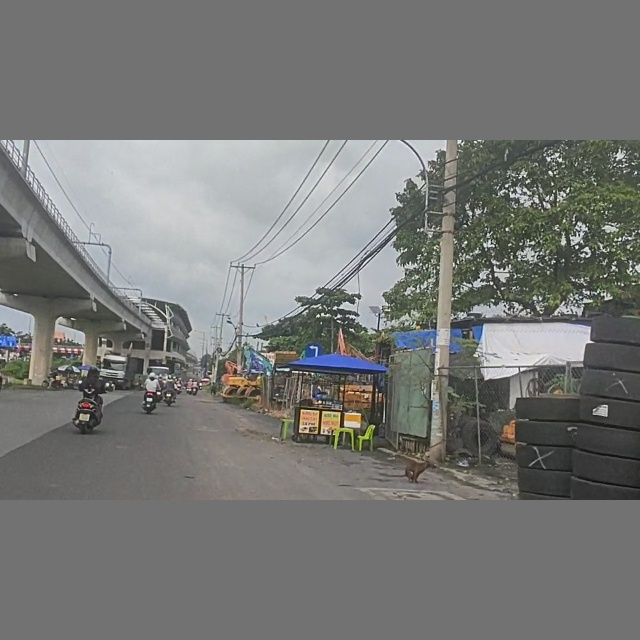R.301e: (306, 343, 322, 359)
